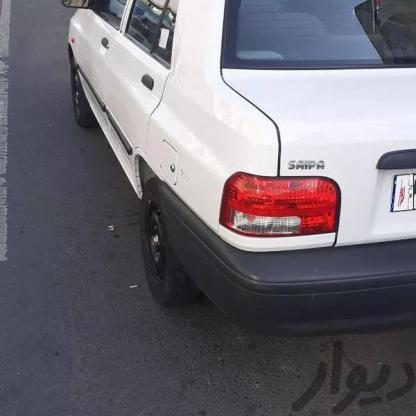Car: (55, 0, 415, 345)
